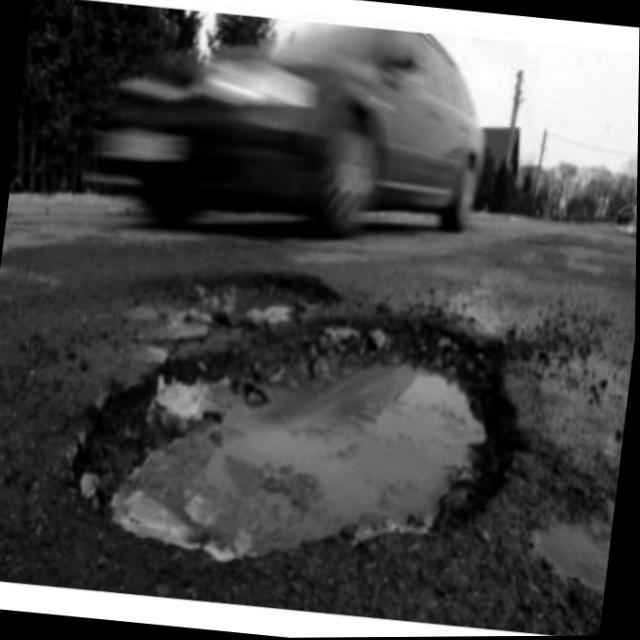pathole: (17, 225, 608, 599)
